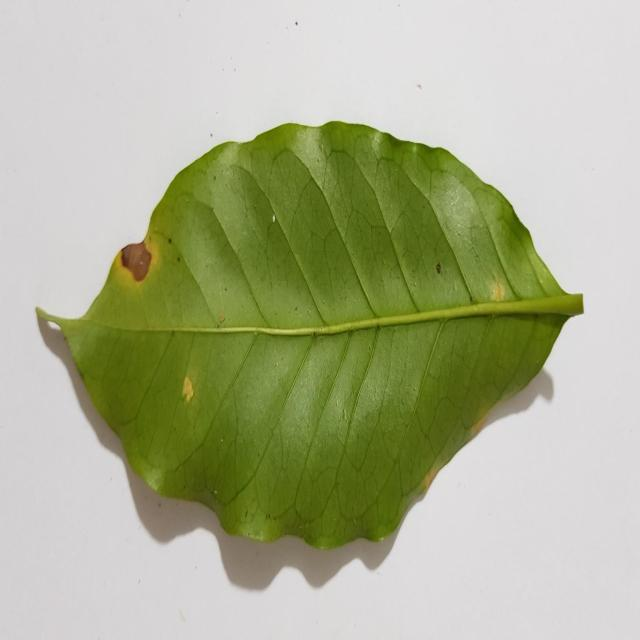Enfermedad-Mancha-de-hierro: (35, 120, 585, 554)
